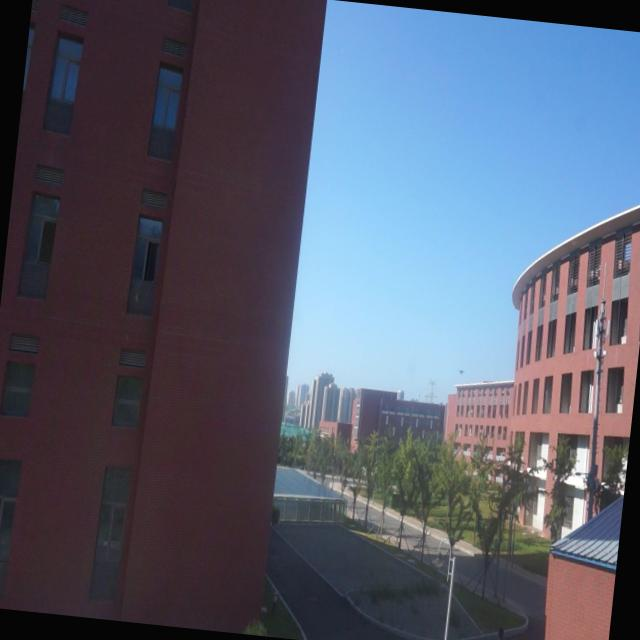drone: (454, 362, 466, 378)
